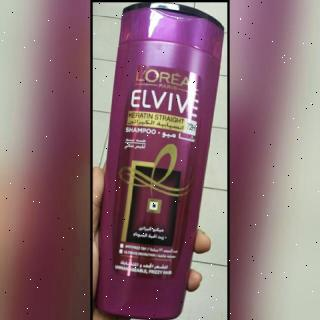Plastic-bottle: (92, 2, 228, 320)
